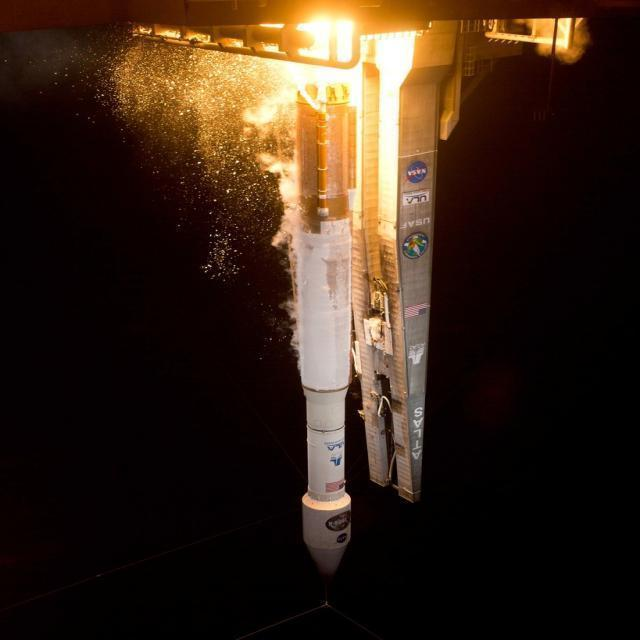missile: (274, 79, 375, 570)
